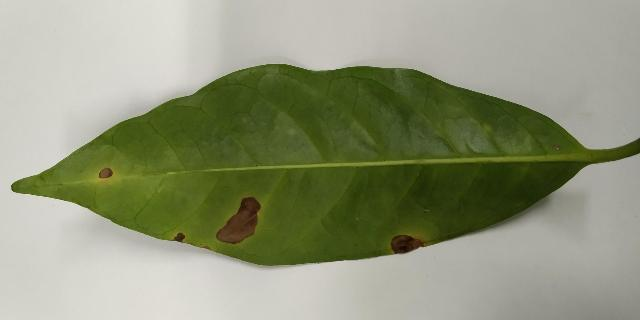phoma: (217, 197, 261, 243), (391, 235, 426, 254), (171, 232, 188, 242), (98, 168, 113, 179)
